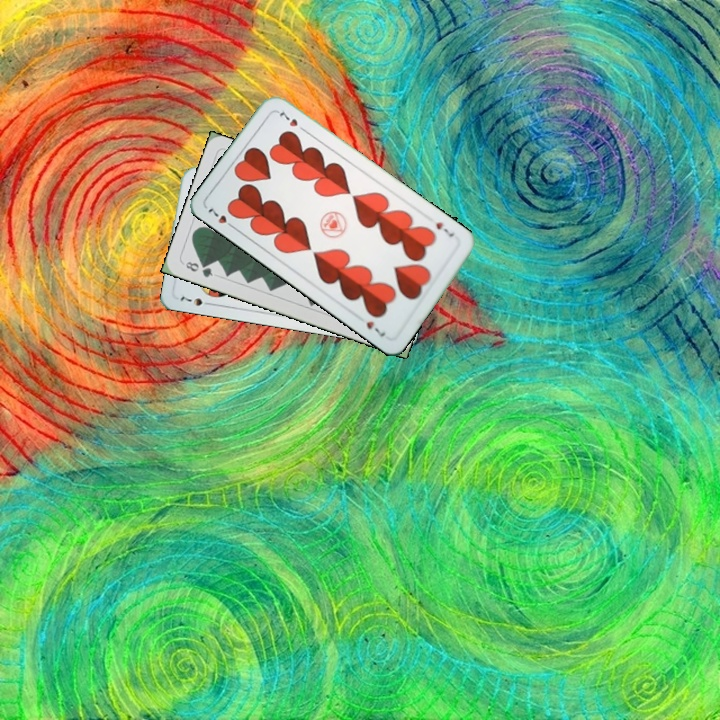G8: (181, 257, 215, 280)
H7: (203, 202, 238, 232), (432, 218, 457, 240)
S7: (176, 293, 215, 309)
